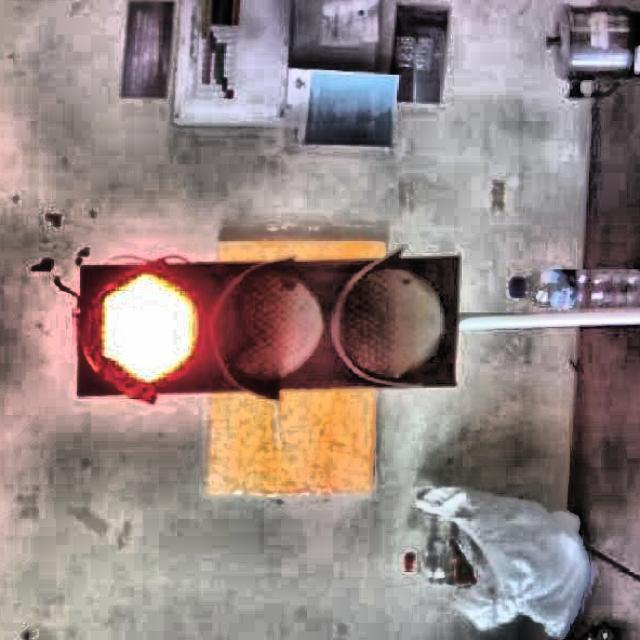red: (74, 248, 468, 410)
